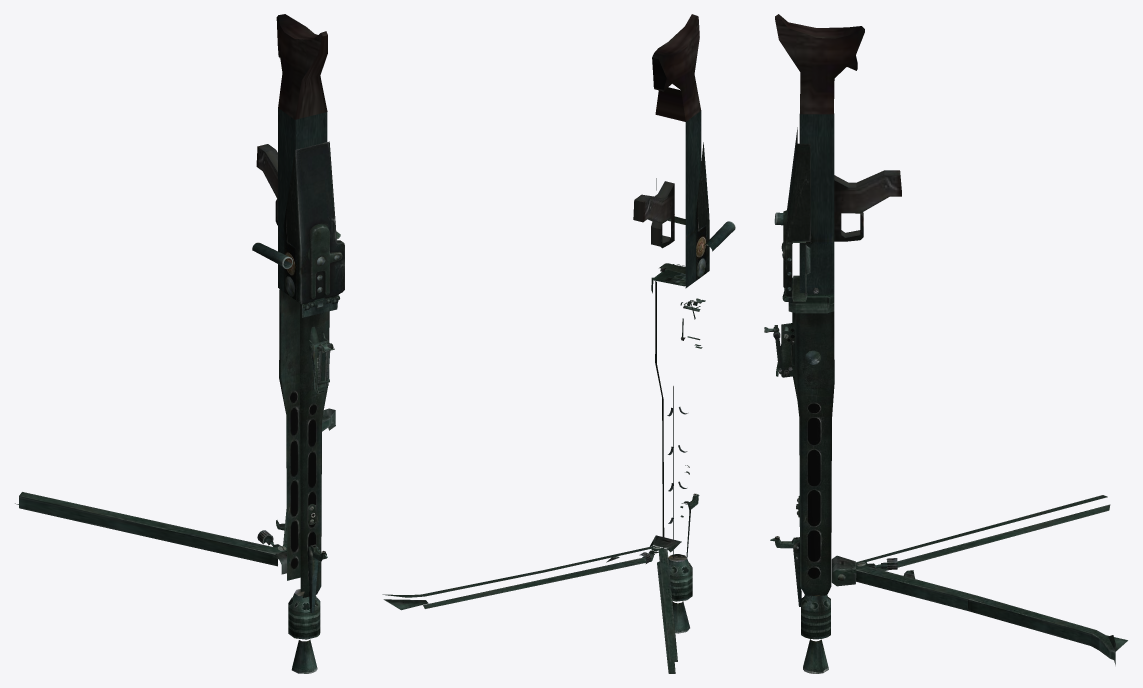
File: viewmodel_mg42.glb
3 views of the same model, side by side, from view 1: azimuth 30°, elevation 25°; view 2: azimuth 150°, elevation 25°; view 3: azimuth 270°, elevation 25° (orthographic). The views are drawn at different scales.
Size of the model in its own units: 29.57 by 56.64 by 28.59.
1 material, 1 textured.
